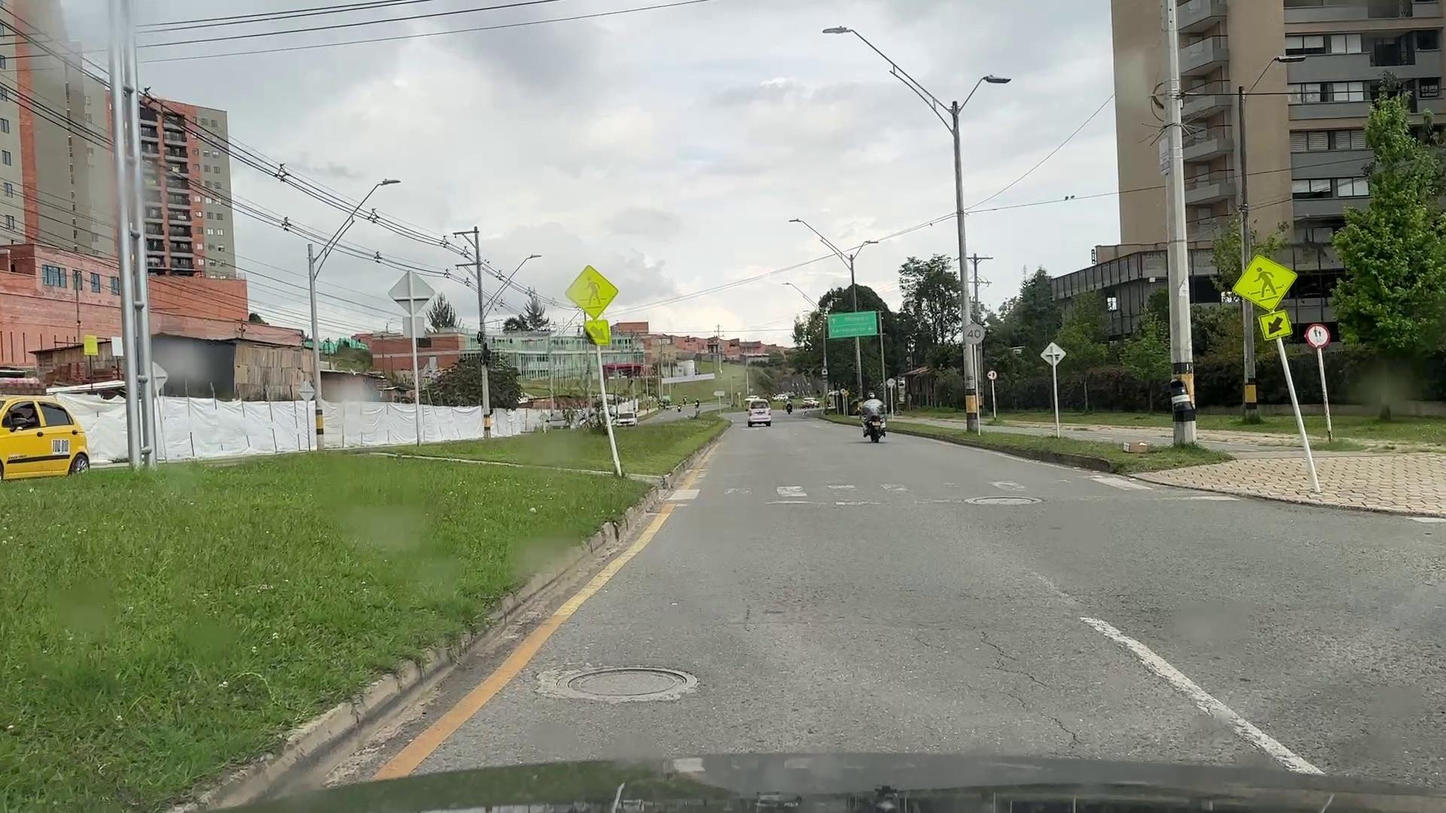registro: (568, 669, 686, 696), (974, 497, 1035, 504)
